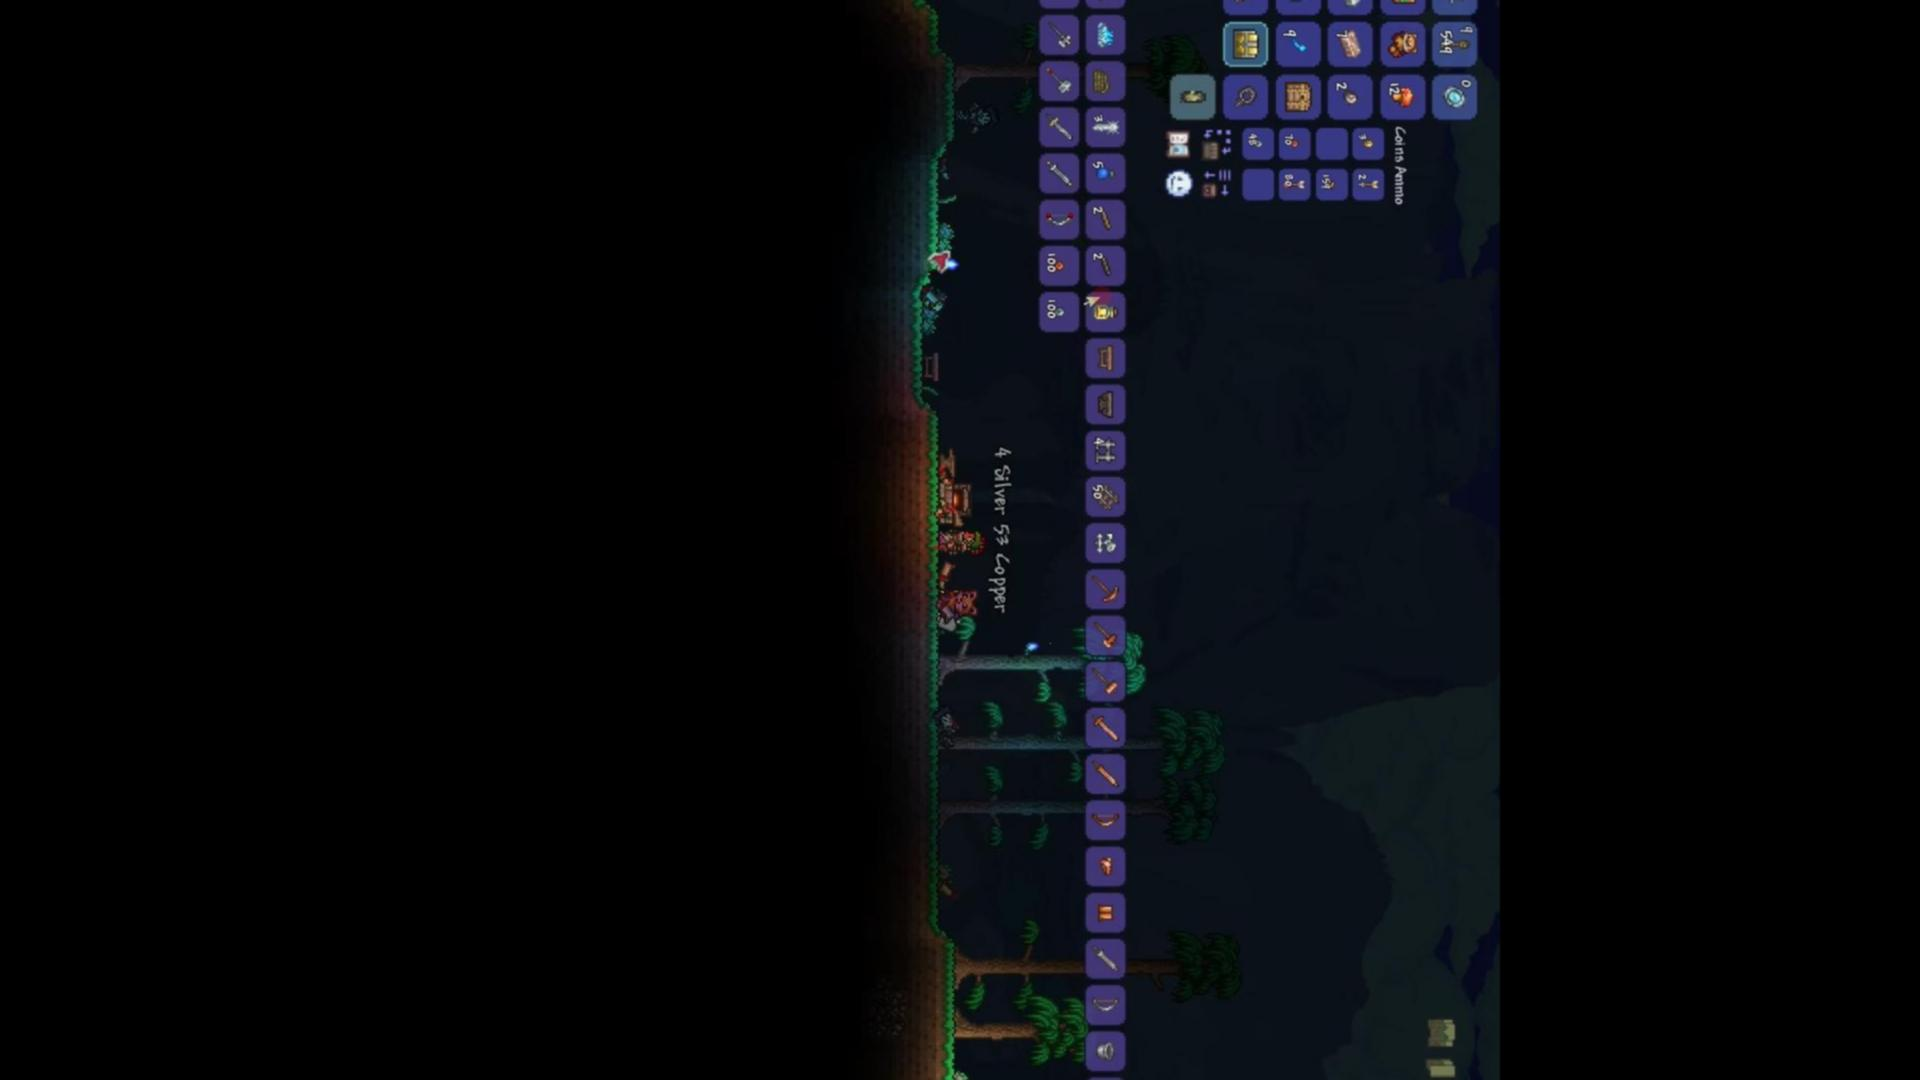anvil: (939, 447, 960, 483)
chest: (1229, 28, 1258, 62)
cobwebI: (1443, 0, 1466, 7)
furnace: (931, 485, 978, 526)
